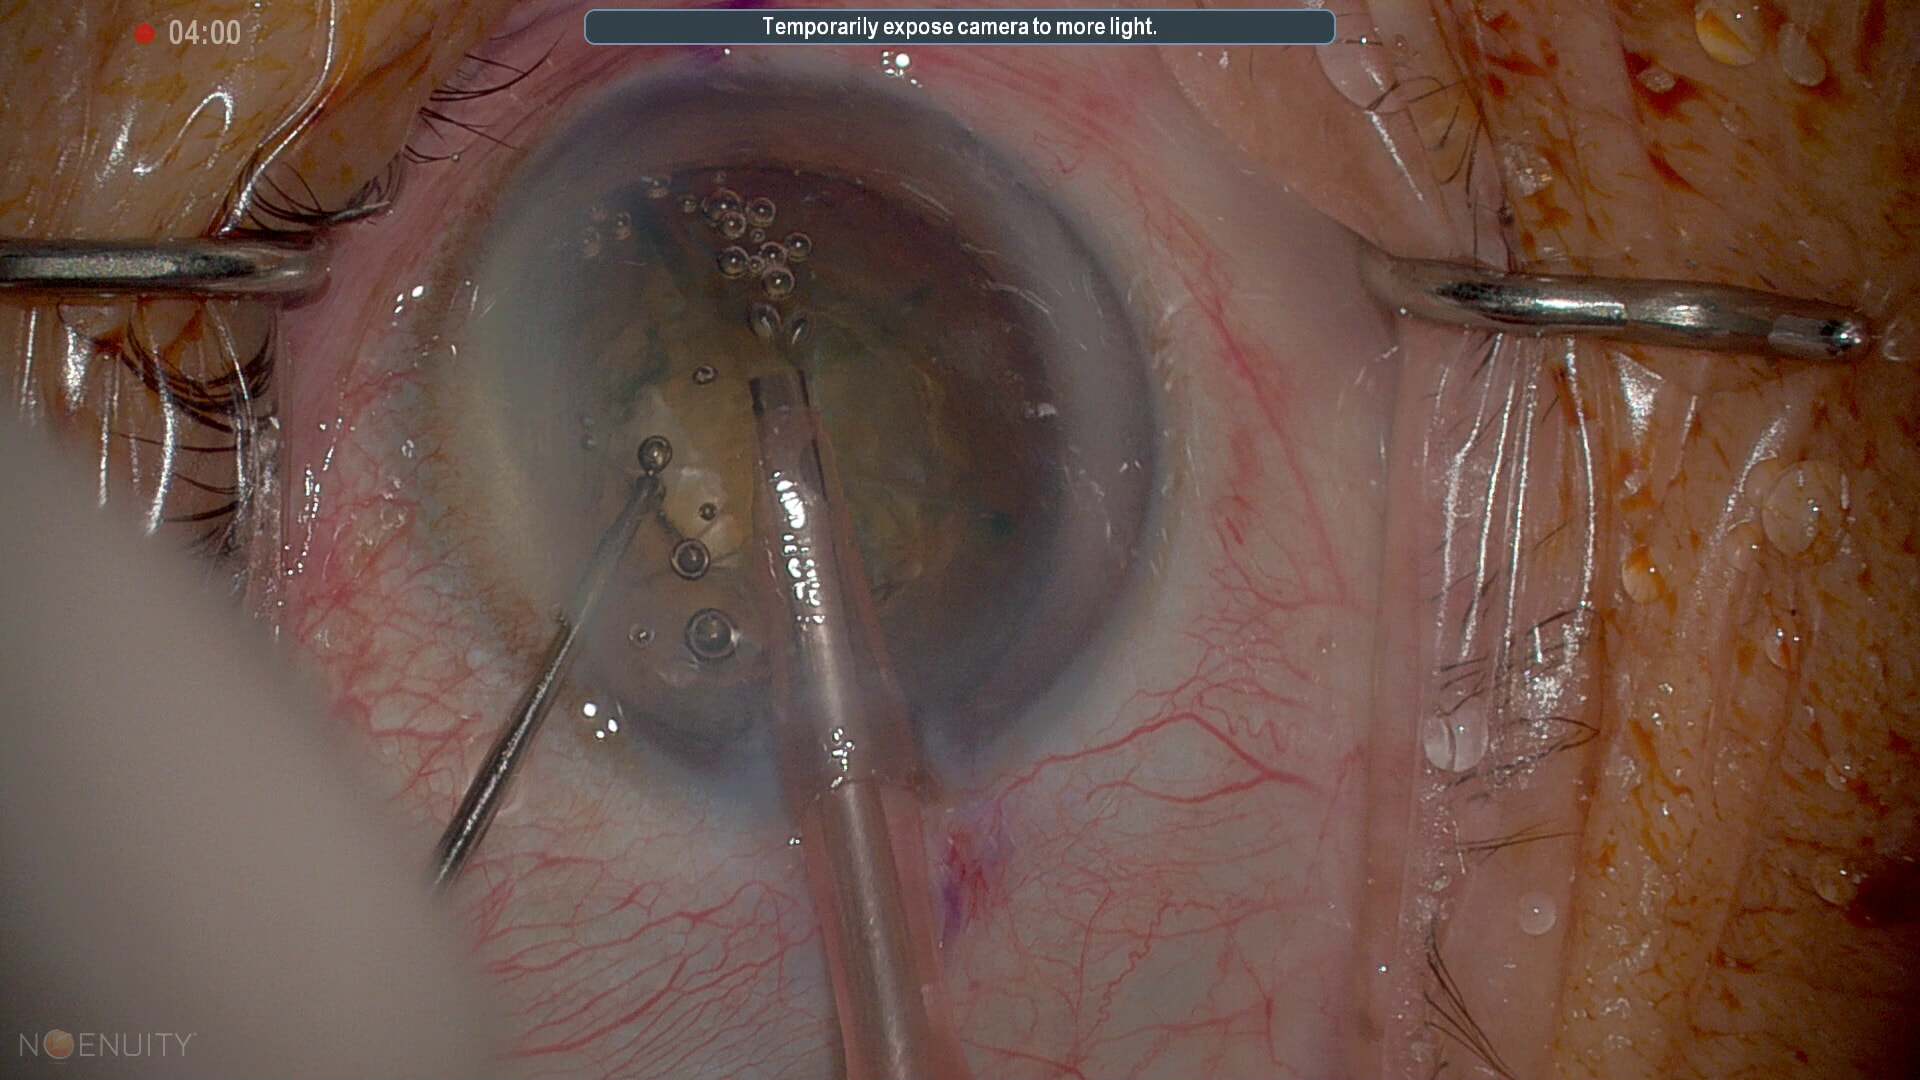iris: (462, 85, 1145, 775)
pupil: (533, 156, 1059, 690)
